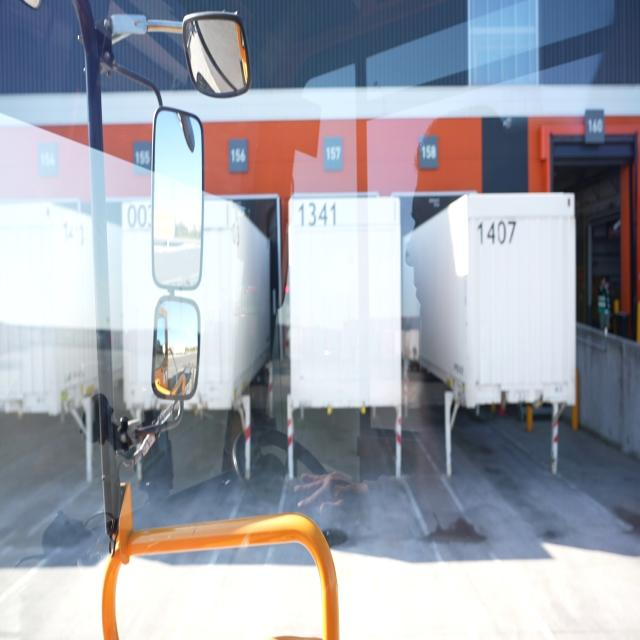Code: (296, 196, 342, 234), (474, 216, 520, 252)
